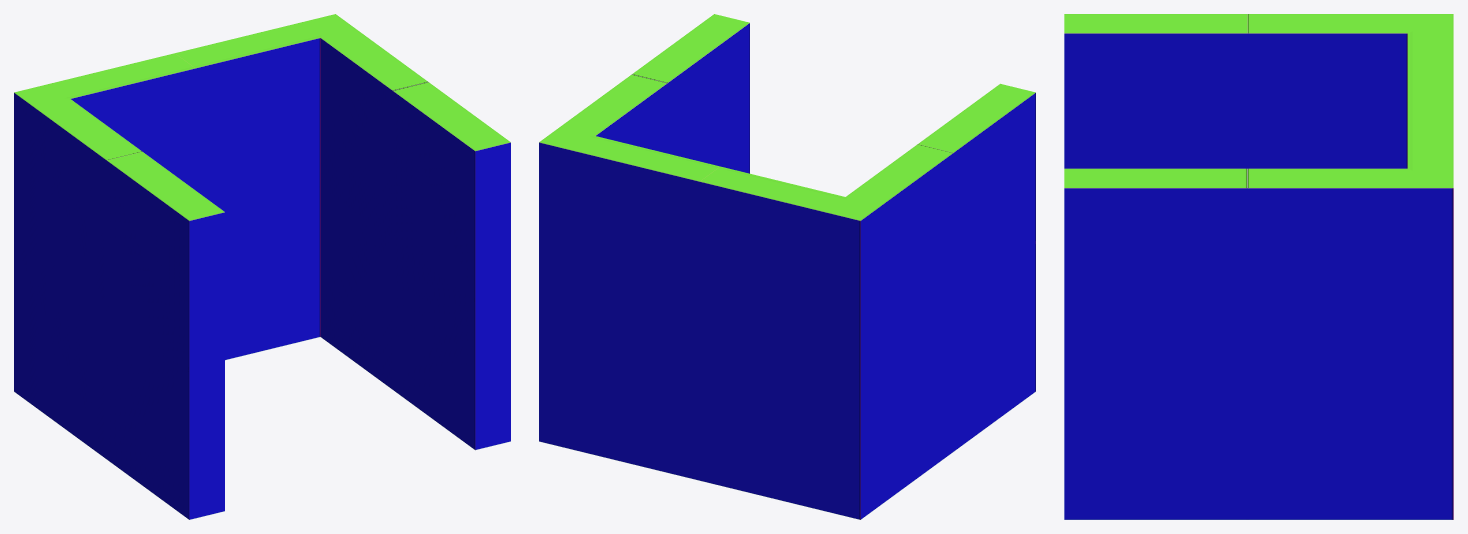
File: MK_MK_Wall_DeadEnd_E.fbx
The picture shows the model from 3 angles, left to right: view 1: azimuth 30°, elevation 25°; view 2: azimuth 150°, elevation 25°; view 3: azimuth 270°, elevation 25°; orthographic projection. The views are drawn at different scales.
Parts seen in each view (by area): view 1: MK_Wall_DeadEnd_E; view 2: MK_Wall_DeadEnd_E; view 3: MK_Wall_DeadEnd_E.
Part boxes in pixels (x1,y1,x2,y2): MK_Wall_DeadEnd_E: (14, 14, 510, 519); MK_Wall_DeadEnd_E: (539, 14, 1035, 519); MK_Wall_DeadEnd_E: (1064, 14, 1453, 519).
Bounding box in the file's own units: 202 × 180 × 191.
Materials: 1 (1 with a texture image).
